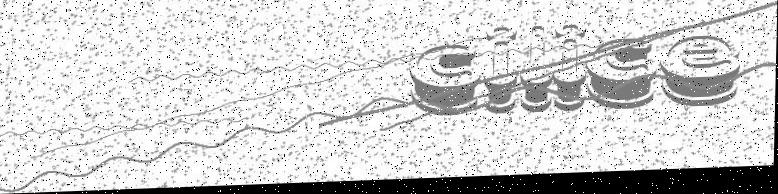c: (409, 45, 482, 121), (586, 41, 656, 117)
e: (659, 38, 741, 115)
i: (553, 25, 588, 117), (484, 30, 519, 119)
l: (520, 27, 553, 119)
